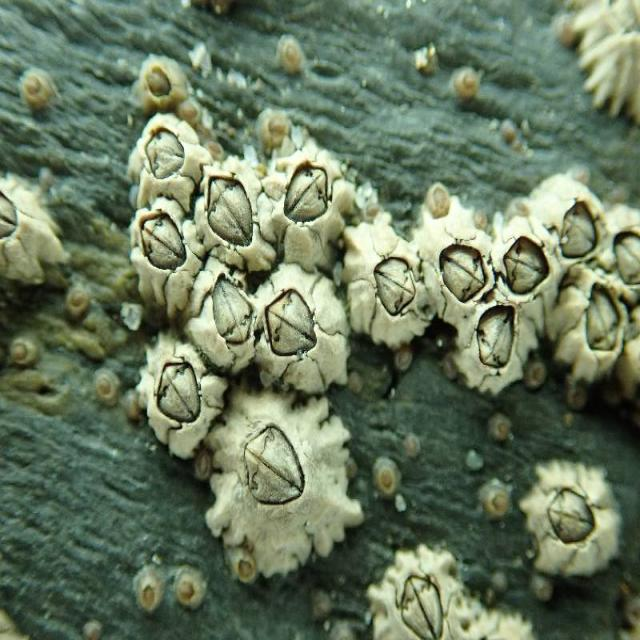barnacles: (195, 401, 356, 562), (340, 203, 428, 352), (523, 459, 627, 584), (252, 282, 351, 398), (421, 181, 492, 333), (127, 345, 215, 462), (192, 158, 278, 275), (364, 537, 453, 640), (265, 150, 348, 258), (554, 276, 624, 395), (194, 260, 261, 384), (530, 172, 606, 276), (486, 209, 552, 316), (130, 200, 198, 302), (456, 306, 523, 404), (126, 110, 202, 194)
